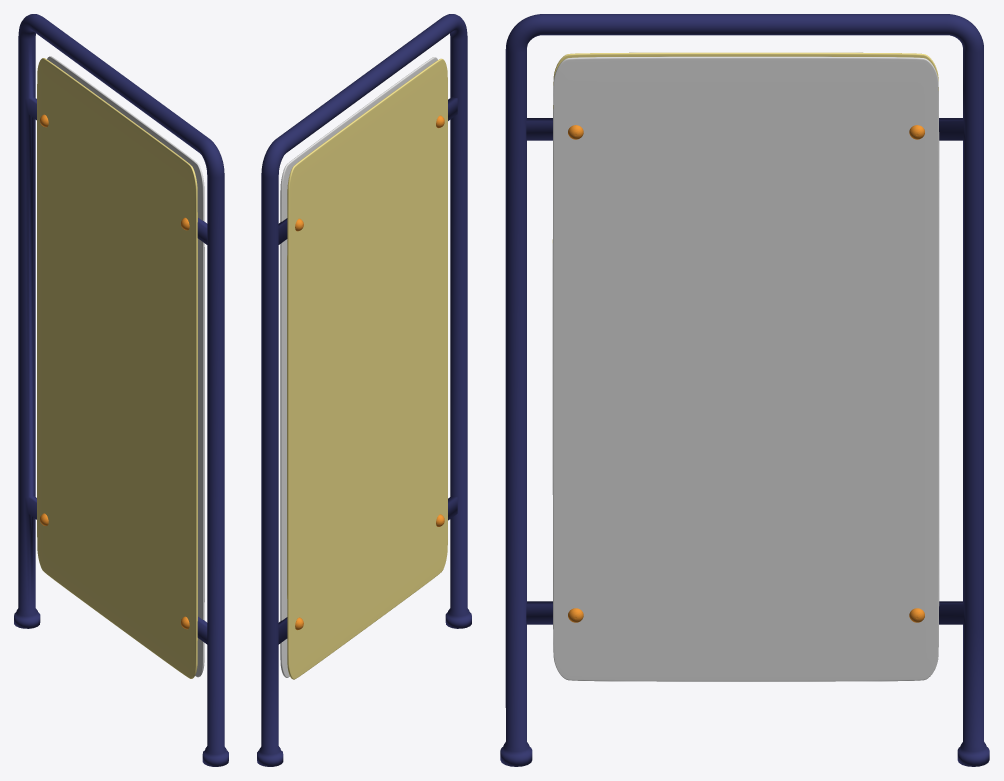
The model's file is board.glb.
3 renders of one model, left to right at view 1: azimuth 30°, elevation 25°; view 2: azimuth 150°, elevation 25°; view 3: azimuth 270°, elevation 25°, orthographic. The views are drawn at different scales.
Parts seen in each view (by area): view 1: Board2, Column, Board; view 2: Board2, Column, Board; view 3: Board, Column, Board2.
Boxes of the visible parts, x1=… form: Board2: x1=37, y1=58, x2=197, y2=678; Column: x1=14, y1=14, x2=228, y2=766; Board: x1=47, y1=56, x2=204, y2=677; Board2: x1=287, y1=58, x2=447, y2=679; Column: x1=257, y1=14, x2=471, y2=766; Board: x1=280, y1=57, x2=437, y2=677; Board: x1=552, y1=56, x2=939, y2=681; Column: x1=500, y1=14, x2=989, y2=766; Board2: x1=552, y1=52, x2=938, y2=242.
Bounding box in the file's own units: 0.1506 × 3.88 × 2.31.
